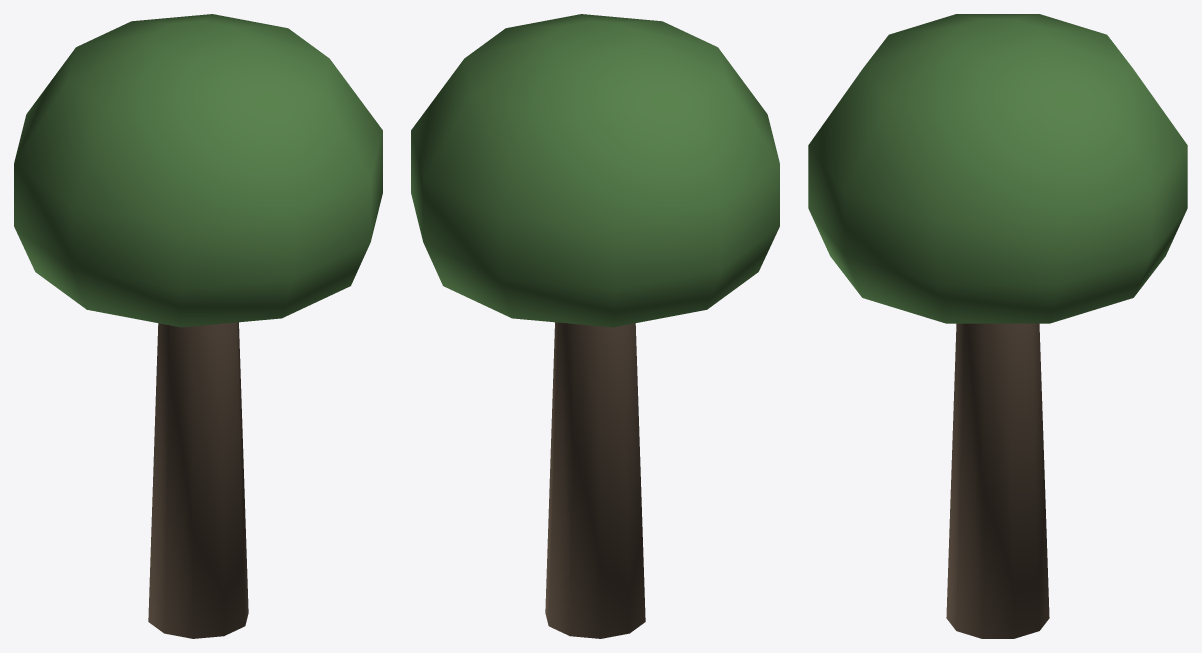
The model's file is tree.glb.
3 renders of one model, left to right at view 1: azimuth 30°, elevation 25°; view 2: azimuth 150°, elevation 25°; view 3: azimuth 270°, elevation 25°, orthographic.
Visible parts, largest first — view 1: leaves, trunk; view 2: leaves, trunk; view 3: leaves, trunk.
Boxes of the visible parts, x1,y1,x2,y2 form: leaves: (14,14,382,327); trunk: (148,322,248,638); leaves: (411,14,779,327); trunk: (545,322,645,638); leaves: (808,14,1187,323); trunk: (946,323,1049,638).
Bounding box in the file's own units: 7 × 12.4 × 7.36.
